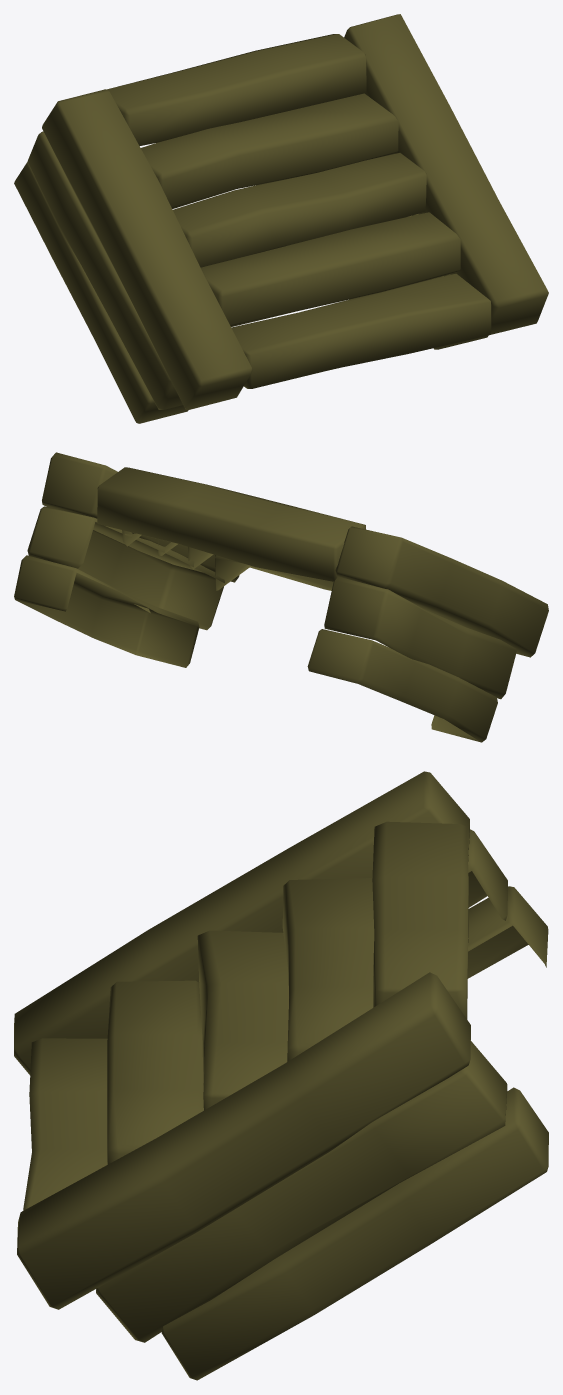
File: Stairs.fbx
The picture shows the model from 3 angles, top to bottom: view 1: azimuth 30°, elevation 25°; view 2: azimuth 150°, elevation 25°; view 3: azimuth 270°, elevation 25°; orthographic projection. The views are drawn at different scales.
Parts seen in each view (by area): view 1: Stairs_LOD0; view 2: Stairs_LOD0; view 3: Stairs_LOD0.
Boxes of the visible parts, left/top/right/bottom form: Stairs_LOD0: left=14, top=14, right=548, bottom=423; Stairs_LOD0: left=14, top=452, right=548, bottom=742; Stairs_LOD0: left=14, top=771, right=548, bottom=1380.
Size of what is drawn, in the model's own units: 4.05 by 2.9 by 3.73.
